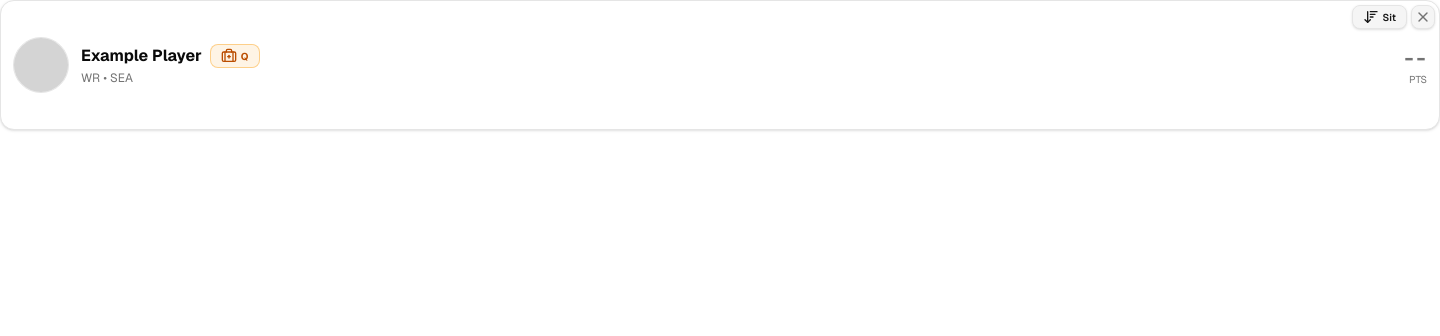
Test case: PlayerCard › shows injury comments in the expansion when there is no news note
The width and height of the screenshot is (1440, 336).
Click the button named "questionable updates for Example Player" at point(235, 56), box [210, 44, 260, 68]
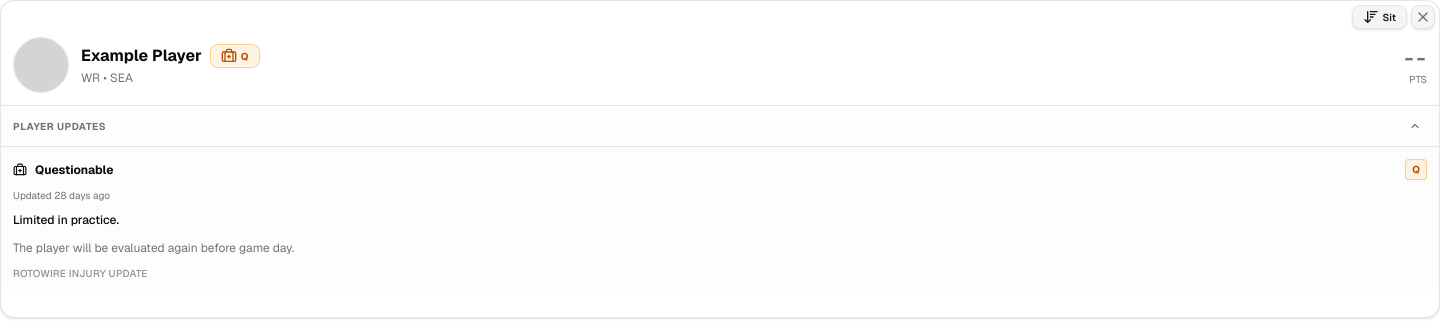
Expected: the text "Limited in practice." is shown, [13, 212, 119, 228]
Expected: the text "The player will be evaluated again before game day." is shown, [13, 240, 294, 256]
